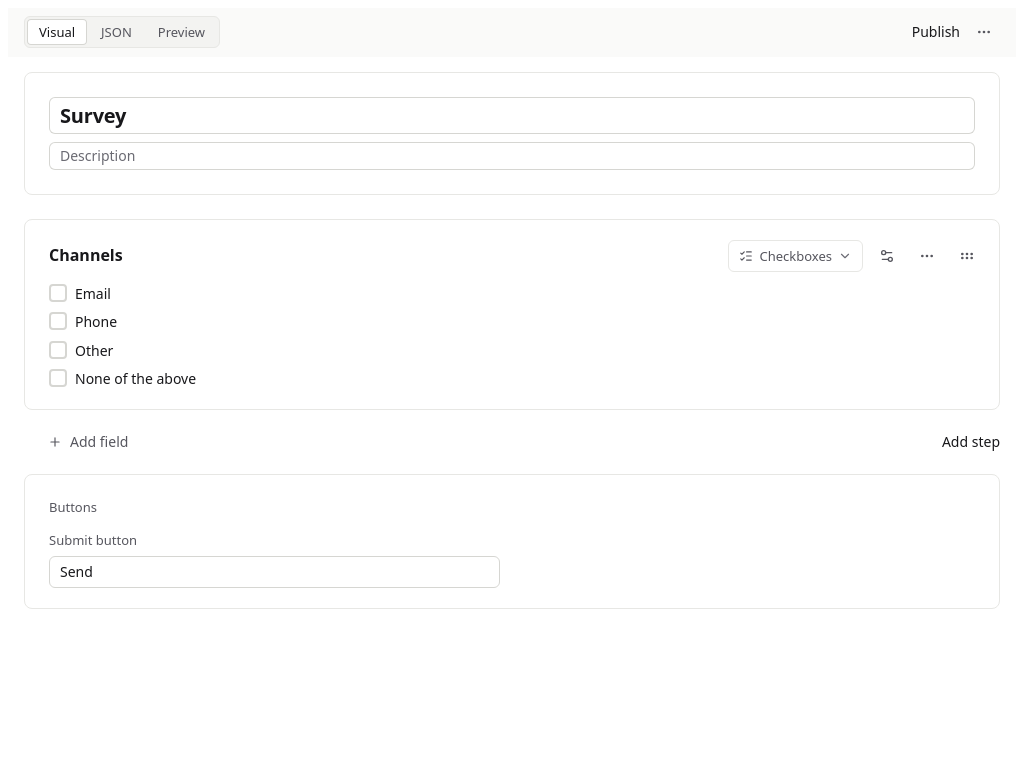
Test: randomized options › shows a ghost pin on an exclusive option
Click the button named "Field settings" at point(887, 256), box [871,240,903,272]
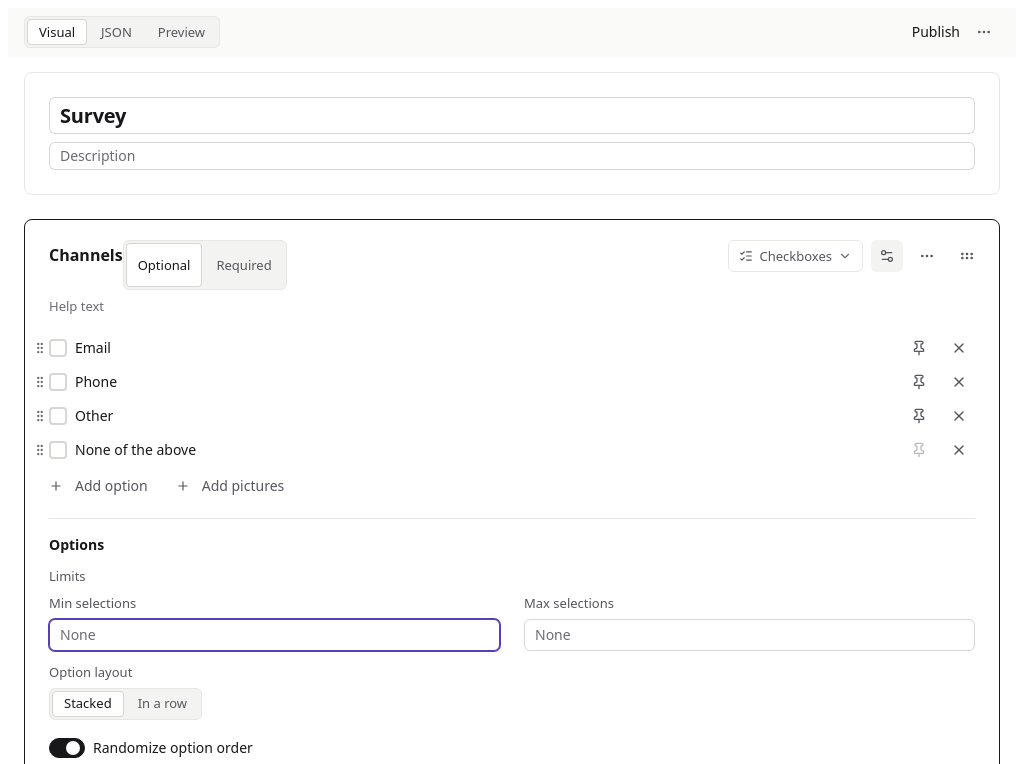
Result: the button named "Pin “Other” in place" is shown at [903,400,935,432]
Hover over the button named "“None of the above” is never shuffled" at point(919, 450), box [903,434,935,466]
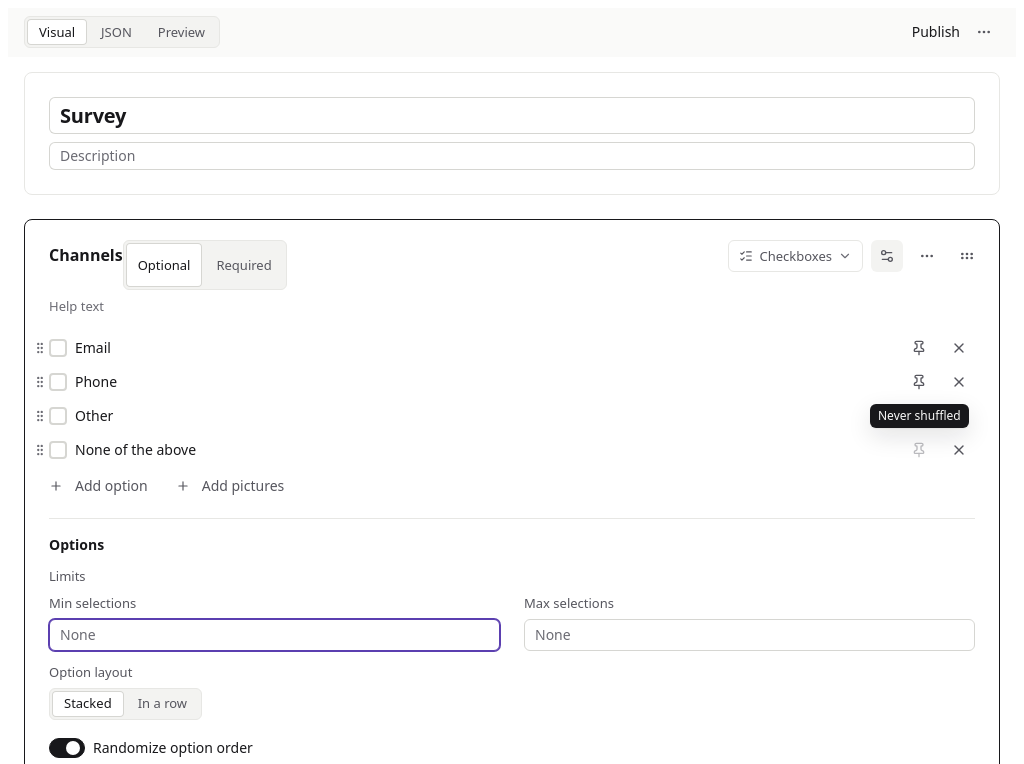
Result: the tooltip reads "Never shuffled" at [878,407,961,424]
